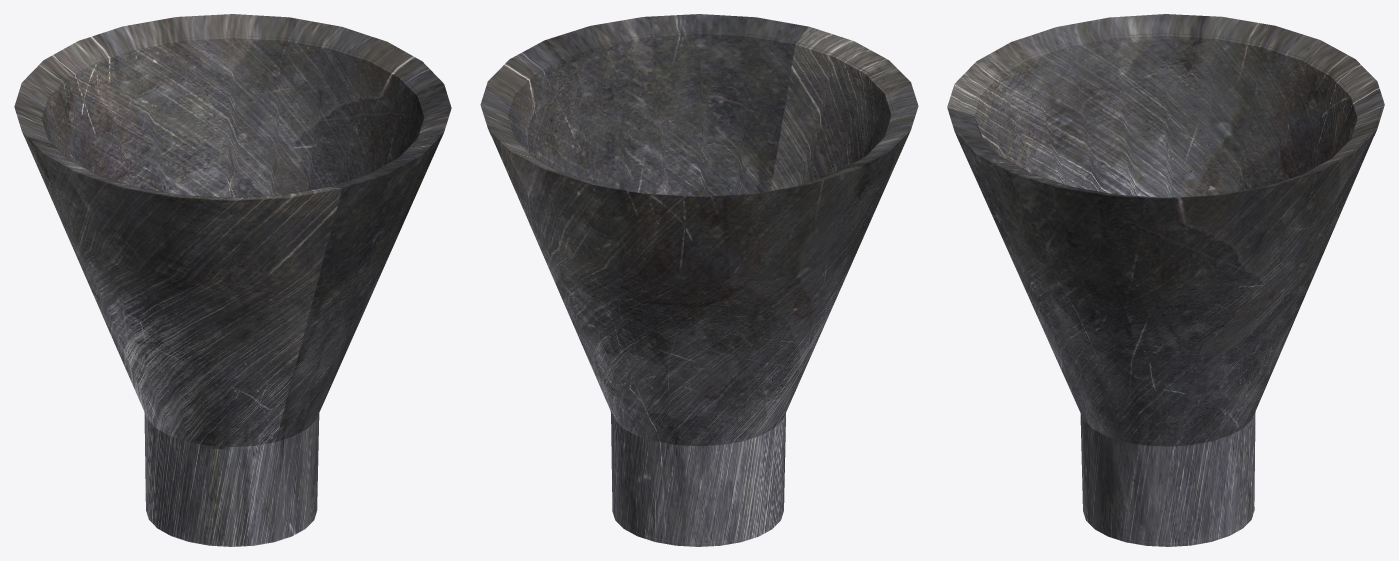
File: tron_outline_loader.fbx
3 renders of one model, left to right at view 1: azimuth 30°, elevation 25°; view 2: azimuth 150°, elevation 25°; view 3: azimuth 270°, elevation 25°, orthographic.
Parts seen in each view (by area): view 1: funnel, funnel.003; view 2: funnel, funnel.003; view 3: funnel, funnel.003.
Part boxes in pixels (x1,y1,x2,y2): funnel: (17, 16, 448, 546); funnel.003: (14, 14, 451, 546); funnel: (483, 16, 915, 543); funnel.003: (480, 14, 918, 546); funnel: (950, 16, 1381, 543); funnel.003: (947, 14, 1384, 546).
Size of the model in its own units: 0.9002 by 0.9214 by 0.9001.
